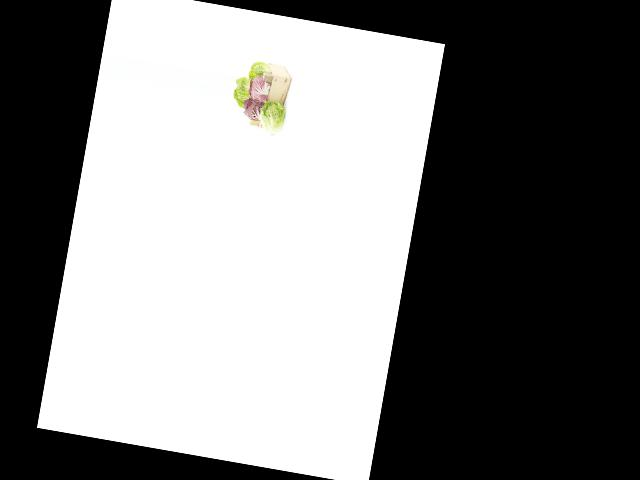lettuce: (231, 75, 257, 109)
